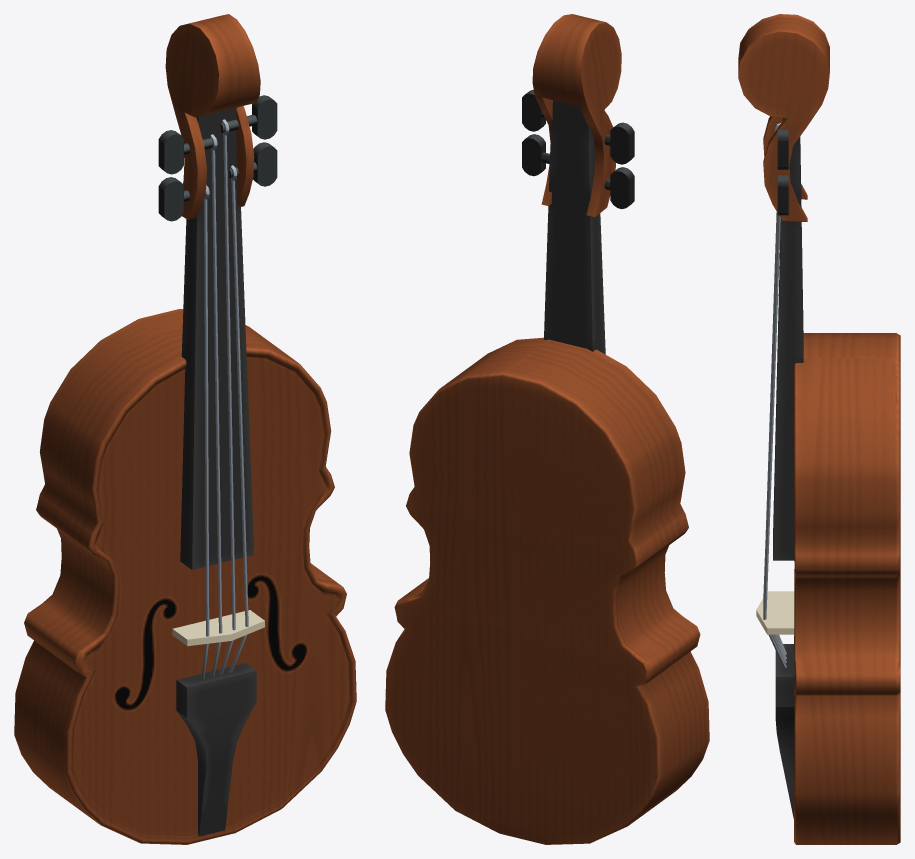
The model's file is violin_brown.fbx.
The picture shows the model from 3 angles, left to right: view 1: azimuth 30°, elevation 25°; view 2: azimuth 150°, elevation 25°; view 3: azimuth 270°, elevation 25°; orthographic projection. The views are drawn at different scales.
Parts seen in each view (by area): view 1: violin_brown; view 2: violin_brown; view 3: violin_brown.
Part boxes in pixels (bbox=[...]): violin_brown: bbox=[14, 14, 356, 844]; violin_brown: bbox=[385, 14, 709, 844]; violin_brown: bbox=[738, 14, 900, 844].
Bounding box in the file's own units: 0.3707 × 1 × 0.1837.
